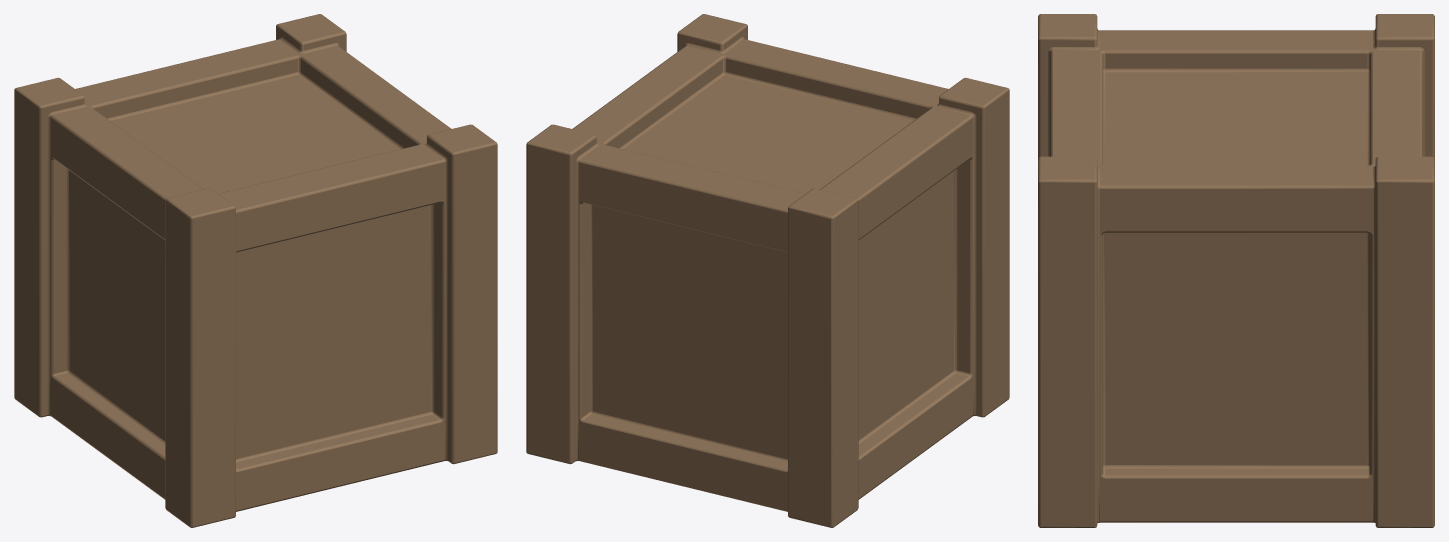
File: SM_Crate_Small.glb
3 renders of one model, left to right at view 1: azimuth 30°, elevation 25°; view 2: azimuth 150°, elevation 25°; view 3: azimuth 270°, elevation 25°, orthographic. The views are drawn at different scales.
Parts seen in each view (by area): view 1: SM_Crate_Small; view 2: SM_Crate_Small; view 3: SM_Crate_Small.
Boxes of the visible parts, x1,y1,x2,y2 form: SM_Crate_Small: (14, 14, 497, 527); SM_Crate_Small: (526, 14, 1009, 527); SM_Crate_Small: (1038, 14, 1434, 527).
Bounding box in the file's own units: 0.64 × 0.62 × 0.64.
